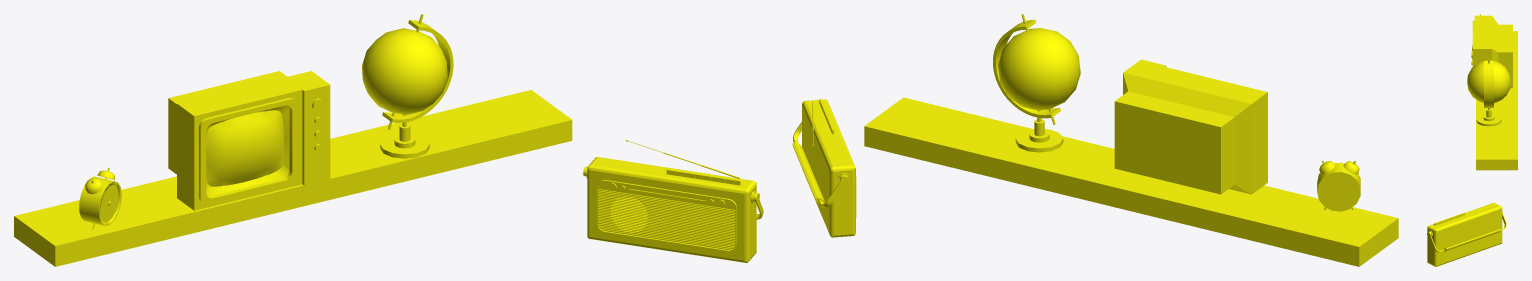
File: RadioSet.FBX
The picture shows the model from 3 angles, left to right: view 1: azimuth 30°, elevation 25°; view 2: azimuth 150°, elevation 25°; view 3: azimuth 270°, elevation 25°; orthographic projection. The views are drawn at different scales.
Visible parts, largest first — view 1: Radio; view 2: Radio; view 3: Radio.
Part boxes in pixels (<box>): Radio: <box>14,14,763,266</box>; Radio: <box>792,14,1398,266</box>; Radio: <box>1427,14,1517,266</box>.
Bounding box in the file's own units: 1.68 × 0.3864 × 0.6484.
